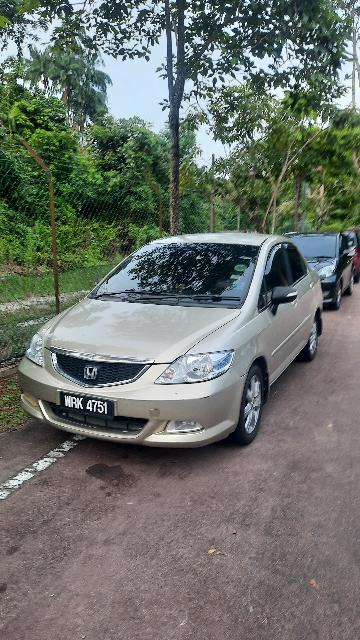License_Plate: (56, 387, 121, 424)
car: (16, 232, 324, 456)
